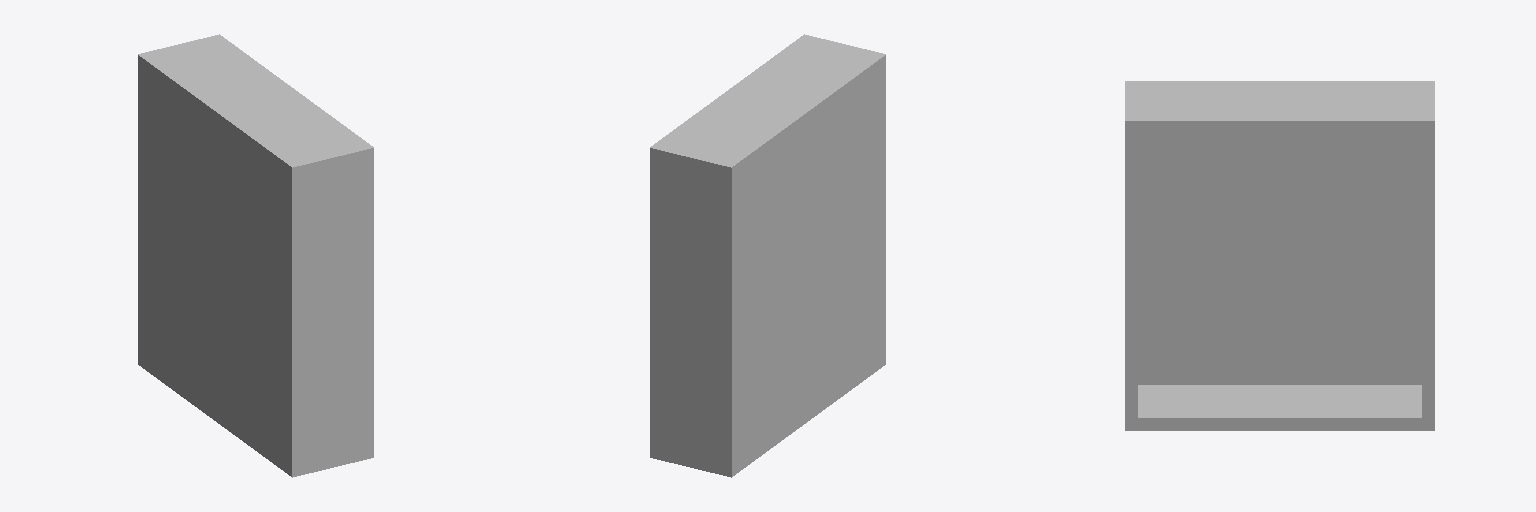
The model's file is light_box.obj.
3 views of the same model, side by side, from view 1: azimuth 30°, elevation 25°; view 2: azimuth 150°, elevation 25°; view 3: azimuth 270°, elevation 25° (orthographic).
Parts seen in each view (by area): view 1: Cube; view 2: Cube; view 3: Cube.
Boxes of the visible parts, x1,y1,x2,y2 form: Cube: [138, 34, 373, 477]; Cube: [650, 34, 885, 477]; Cube: [1125, 81, 1434, 430].
Size of the model in its own units: 10 by 36.07 by 32.67.